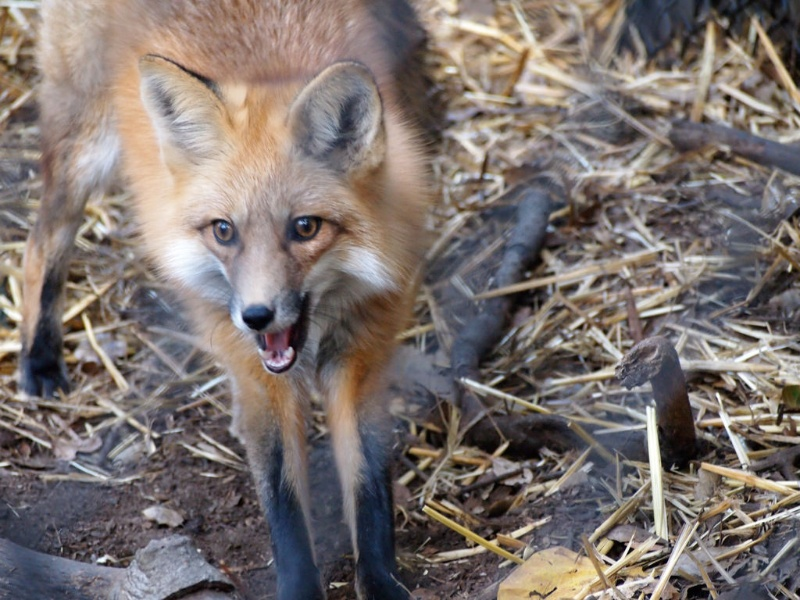fox: (24, 1, 447, 581)
